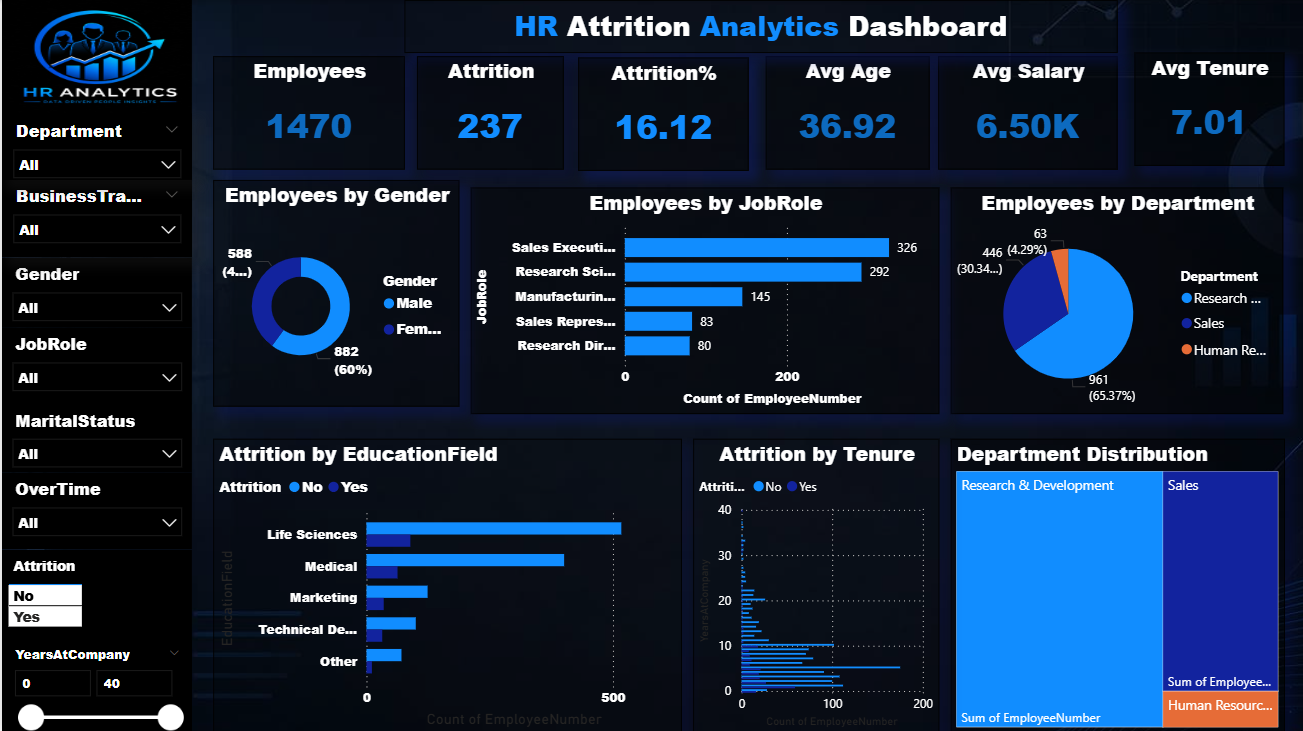

The dashboard page shown, as its layout file describes it:
{"tool":"powerbi","page":{"name":"Page 1","canvas":[1280,720],"ordinal":0},"visuals":[{"type":"card","title":"Employees","fields":{"Values":["WA_Fn-UseC_-HR-Employee-Attrition.Total Employees"]},"box":[207.2,54.9,188,111.1],"z":0},{"type":"card","title":"Avg Age","fields":{"Values":["Avg(WA_Fn-UseC_-HR-Employee-Attrition.Age)"]},"box":[749.2,54.9,160.5,111.1],"z":1000},{"type":"card","title":"Avg Salary","fields":{"Values":["Avg(WA_Fn-UseC_-HR-Employee-Attrition.MonthlyIncome)"]},"box":[919.4,54.9,175.6,111.1],"z":2000},{"type":"card","title":"Avg Tenure","fields":{"Values":["Avg(WA_Fn-UseC_-HR-Employee-Attrition.YearsAtCompany)"]},"box":[1111.5,52.1,146.8,111.1],"z":3000},{"type":"pieChart","title":" Employees by Department","fields":{"Category":["WA_Fn-UseC_-HR-Employee-Attrition.Department"],"Y":["CountNonNull(WA_Fn-UseC_-HR-Employee-Attrition.EmployeeNumber)"]},"box":[931.7,183.9,326.6,222.3],"z":4000},{"type":"clusteredBarChart","title":"Employees by JobRole","fields":{"Y":["CountNonNull(WA_Fn-UseC_-HR-Employee-Attrition.EmployeeNumber)"],"Category":["WA_Fn-UseC_-HR-Employee-Attrition.JobRole"]},"box":[460.1,184.1,460.1,222.1],"z":5000},{"type":"donutChart","title":"Employees by Gender","fields":{"Y":["CountNonNull(WA_Fn-UseC_-HR-Employee-Attrition.EmployeeNumber)"],"Category":["WA_Fn-UseC_-HR-Employee-Attrition.Gender"]},"box":[207.4,176.7,241.7,222.1],"z":6000},{"type":"textbox","box":[395.2,0,699.8,52.1],"z":7000},{"type":"card","title":"Attrition","fields":{"Values":["WA_Fn-UseC_-HR-Employee-Attrition.Attrition Count"]},"box":[407.5,54.9,144.1,111.1],"z":8000},{"type":"slicer","fields":{"Values":["WA_Fn-UseC_-HR-Employee-Attrition.Gender"]},"box":[0,252.5,186.6,68.6],"z":10000},{"type":"slicer","fields":{"Values":["WA_Fn-UseC_-HR-Employee-Attrition.JobRole"]},"box":[0,321.1,186.6,75.5],"z":11000},{"type":"slicer","fields":{"Values":["WA_Fn-UseC_-HR-Employee-Attrition.MaritalStatus"]},"box":[0,396.6,186.6,67.2],"z":12000},{"type":"slicer","fields":{"Values":["WA_Fn-UseC_-HR-Employee-Attrition.BusinessTravel"]},"box":[0,175.6,186.6,76.8],"z":13000},{"type":"slicer","fields":{"Values":["WA_Fn-UseC_-HR-Employee-Attrition.OverTime"]},"box":[0,463.8,186.6,75.5],"z":14000},{"type":"tableEx","fields":{"Values":["WA_Fn-UseC_-HR-Employee-Attrition.Attrition"]},"box":[0,539.3,186.6,89.2],"z":15000},{"type":"slicer","fields":{"Values":["WA_Fn-UseC_-HR-Employee-Attrition.YearsAtCompany"]},"box":[0,628.5,186.6,91.9],"z":16000},{"type":"slicer","fields":{"Values":["WA_Fn-UseC_-HR-Employee-Attrition.Department"]},"box":[0,111.1,186.6,64.5],"z":17000},{"type":"treemap","title":" Department Distribution","fields":{"Values":["Sum(WA_Fn-UseC_-HR-Employee-Attrition.EmployeeCount)","Sum(WA_Fn-UseC_-HR-Employee-Attrition.EmployeeNumber)"],"Group":["WA_Fn-UseC_-HR-Employee-Attrition.Department"]},"box":[931.3,430.7,327.6,289.6],"z":18000},{"type":"clusteredBarChart","title":"Attrition by EducationField ","fields":{"Category":["WA_Fn-UseC_-HR-Employee-Attrition.EducationField"],"Y":["CountNonNull(WA_Fn-UseC_-HR-Employee-Attrition.EmployeeNumber)"],"Series":["WA_Fn-UseC_-HR-Employee-Attrition.Attrition"]},"box":[207.4,430.7,460.1,289.6],"z":19000},{"type":"card","title":"Attrition%","fields":{"Values":["WA_Fn-UseC_-HR-Employee-Attrition.ATTRITION RATE"]},"box":[565.4,56.3,167.4,111.1],"z":20000},{"type":"image","box":[0,0,186.6,112.5],"z":21000},{"type":"clusteredBarChart","title":"Attrition by Tenure","fields":{"Category":["WA_Fn-UseC_-HR-Employee-Attrition.YearsAtCompany"],"Y":["CountNonNull(WA_Fn-UseC_-HR-Employee-Attrition.EmployeeNumber)"],"Series":["WA_Fn-UseC_-HR-Employee-Attrition.Attrition"]},"box":[678.5,430.7,241.7,289.6],"z":21001}]}

Visuals, with their boxes in screenshot pixels (x1, y1, x2, y2), scaled from the page's 1280x720 canvas onto the 1303x731 screenshot:
"Employees" card: (left=211, top=56, right=402, bottom=169)
"Avg Age" card: (left=763, top=56, right=926, bottom=169)
"Avg Salary" card: (left=936, top=56, right=1115, bottom=169)
"Avg Tenure" card: (left=1131, top=53, right=1281, bottom=166)
" Employees by Department" pieChart: (left=948, top=187, right=1281, bottom=412)
"Employees by JobRole" clusteredBarChart: (left=468, top=187, right=937, bottom=412)
"Employees by Gender" donutChart: (left=211, top=179, right=457, bottom=405)
textbox: (left=402, top=0, right=1115, bottom=53)
"Attrition" card: (left=415, top=56, right=562, bottom=169)
slicer - WA_Fn-UseC_-HR-Employee-Attrition.Gender: (left=0, top=256, right=190, bottom=326)
slicer - WA_Fn-UseC_-HR-Employee-Attrition.JobRole: (left=0, top=326, right=190, bottom=403)
slicer - WA_Fn-UseC_-HR-Employee-Attrition.MaritalStatus: (left=0, top=403, right=190, bottom=471)
slicer - WA_Fn-UseC_-HR-Employee-Attrition.BusinessTravel: (left=0, top=178, right=190, bottom=256)
slicer - WA_Fn-UseC_-HR-Employee-Attrition.OverTime: (left=0, top=471, right=190, bottom=548)
tableEx - WA_Fn-UseC_-HR-Employee-Attrition.Attrition: (left=0, top=548, right=190, bottom=638)
slicer - WA_Fn-UseC_-HR-Employee-Attrition.YearsAtCompany: (left=0, top=638, right=190, bottom=730)
slicer - WA_Fn-UseC_-HR-Employee-Attrition.Department: (left=0, top=113, right=190, bottom=178)
" Department Distribution" treemap: (left=948, top=437, right=1282, bottom=730)
"Attrition by EducationField " clusteredBarChart: (left=211, top=437, right=679, bottom=730)
"Attrition%" card: (left=576, top=57, right=746, bottom=170)
image: (left=0, top=0, right=190, bottom=114)
"Attrition by Tenure" clusteredBarChart: (left=691, top=437, right=937, bottom=730)
